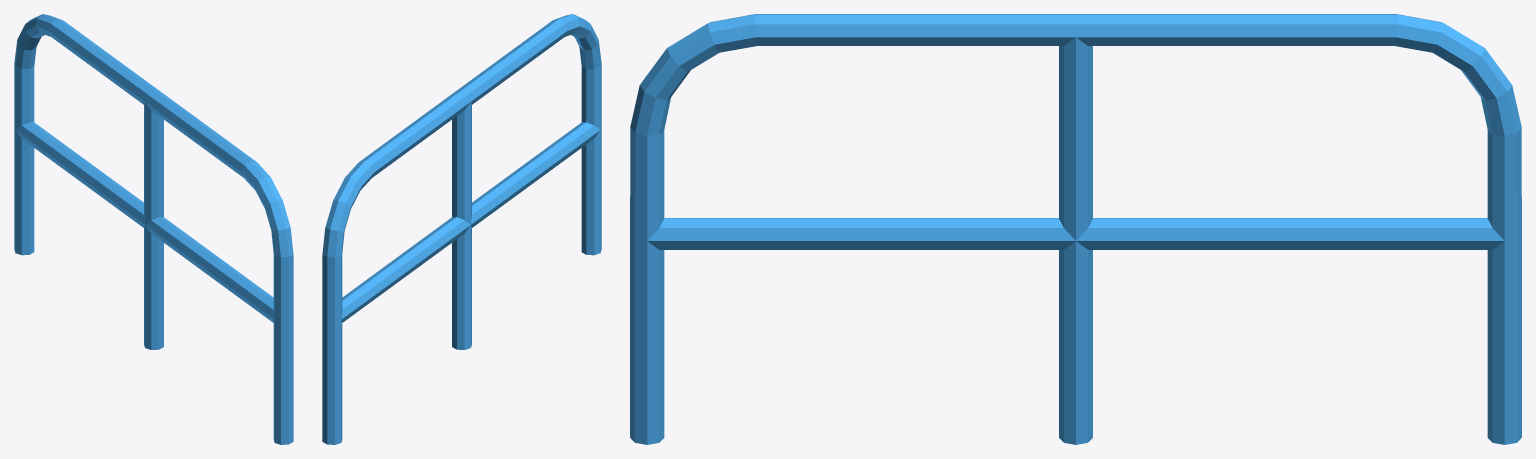
File: Pipe_Barier_2_12_2.fbx
The picture shows the model from 3 angles, left to right: view 1: azimuth 30°, elevation 25°; view 2: azimuth 150°, elevation 25°; view 3: azimuth 270°, elevation 25°; orthographic projection. The views are drawn at different scales.
Parts seen in each view (by area): view 1: Fence_2_2; view 2: Fence_2_2; view 3: Fence_2_2.
Boxes of the visible parts, bbox=[...] form: Fence_2_2: bbox=[14, 14, 293, 444]; Fence_2_2: bbox=[322, 14, 601, 444]; Fence_2_2: bbox=[630, 14, 1521, 444].
Bounding box in the file's own units: 8 × 109 × 209.
